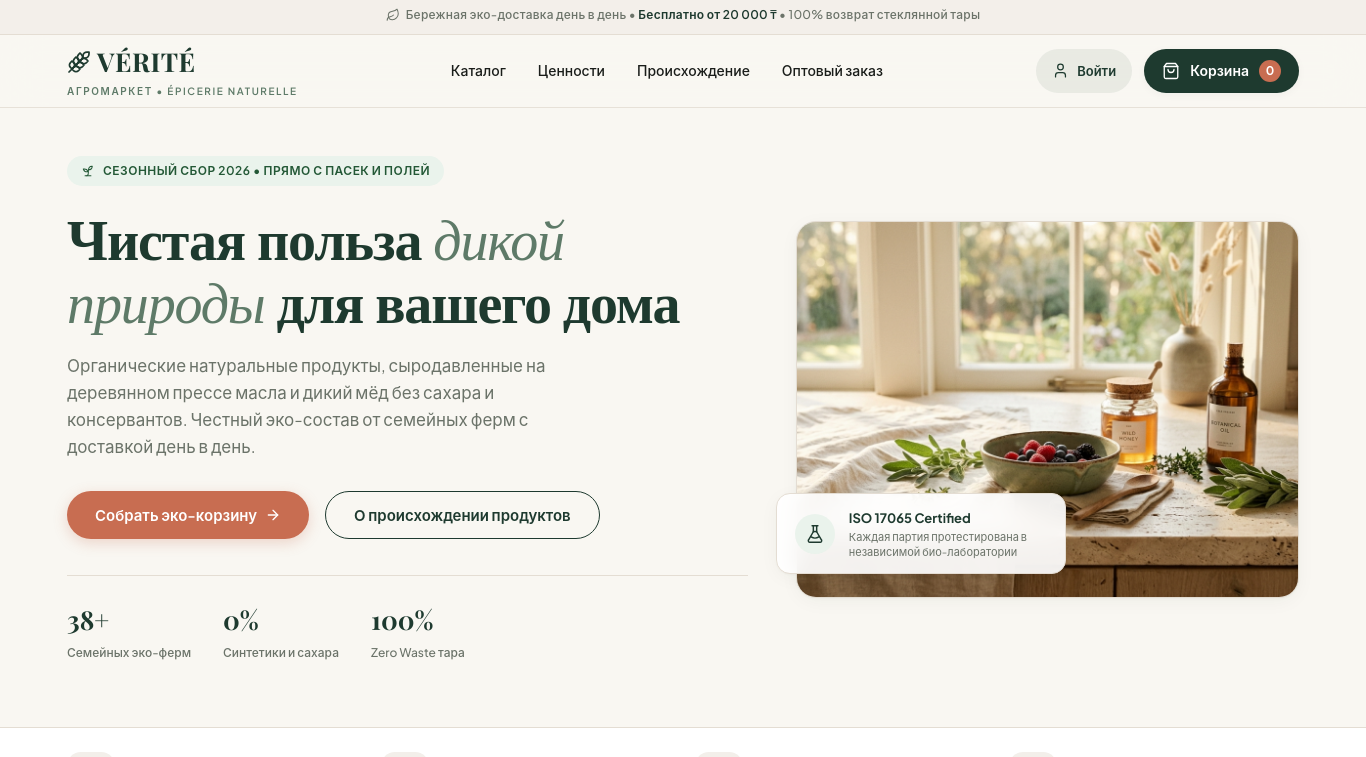
Test: Каталог и сессия › 401 на восстановлении сессии удаляет устаревший токен
Click the button with aria-label "Войти в аккаунт" at (1084, 71), box top-left (1036, 49), bottom-right (1132, 93)
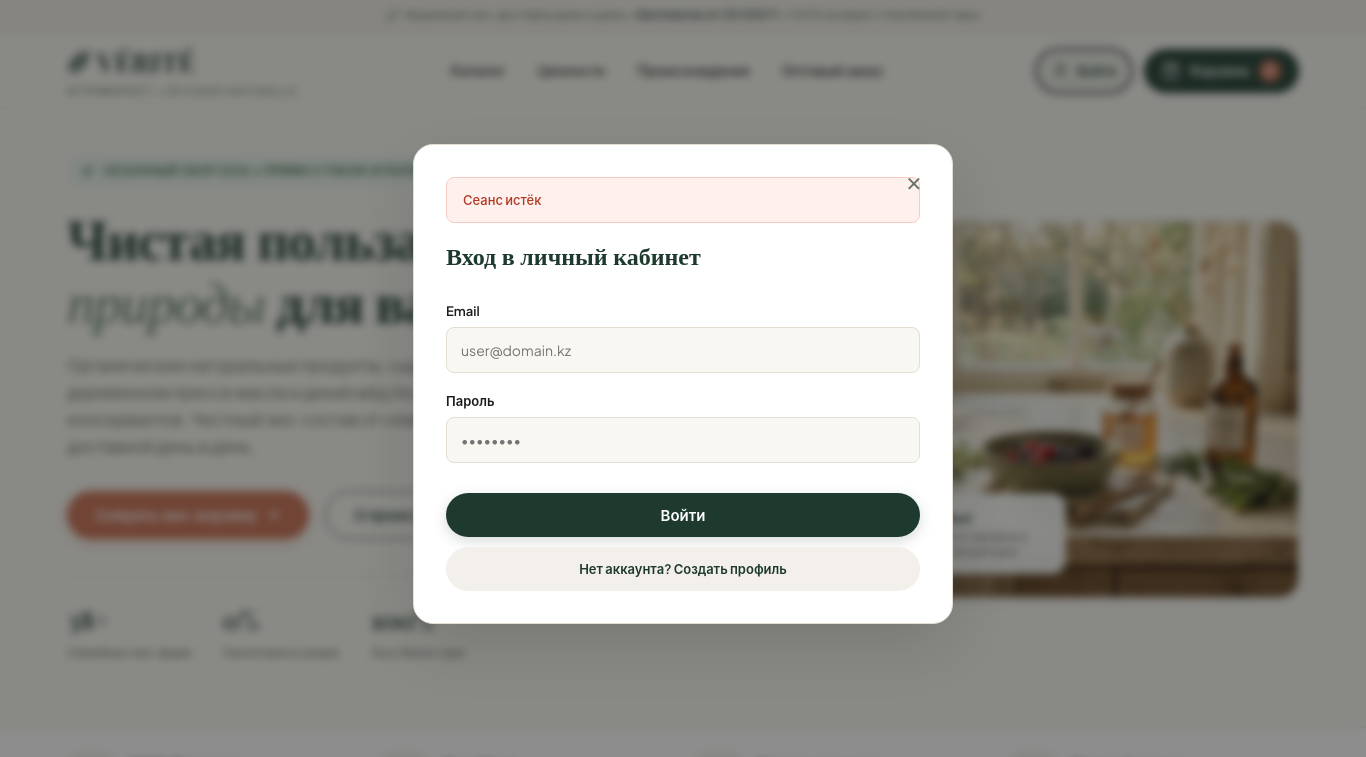
Expected: the text "Сеанс истёк" is shown, top-left (446, 177), bottom-right (920, 223)
Expected: the form named "Вход в аккаунт" is shown, top-left (446, 237), bottom-right (920, 591)
